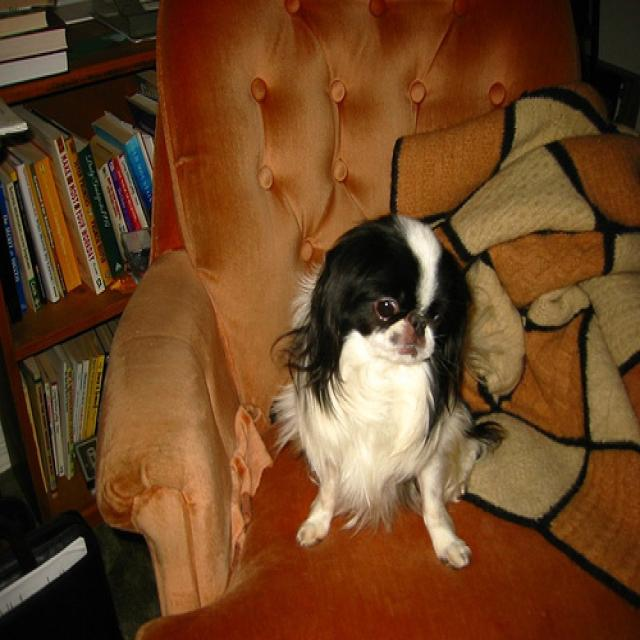dog: (310, 210, 471, 367)
